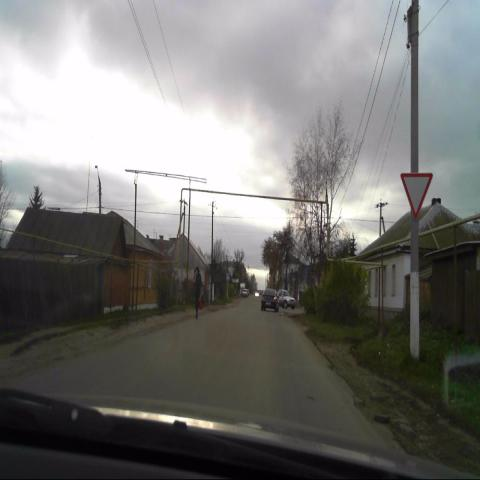2_4: (399, 170, 434, 220)
